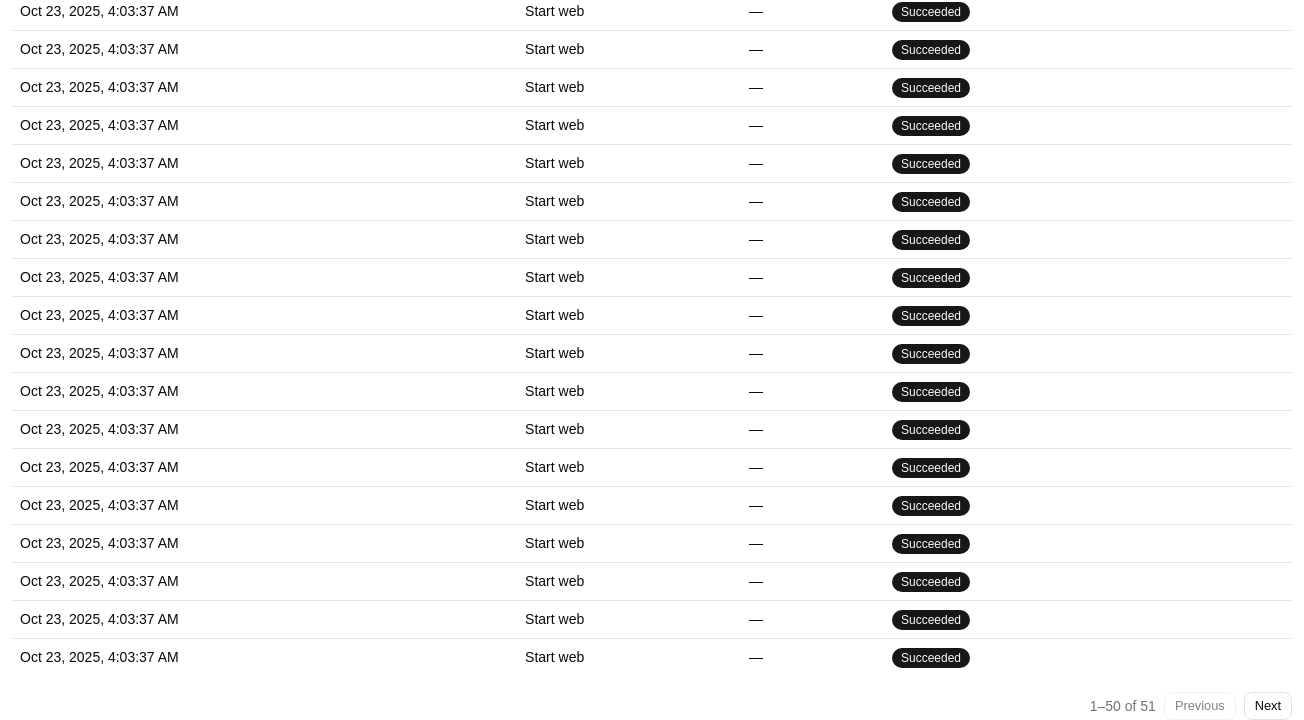
Test: shows tasks fifty at a time
(page scrolled)
Expected: the text "1–50 of 51" is shown, [1090,696,1156,716]
Click the button "Next" at [1268, 706], box [1244,692,1292,719]
(page scrolled)
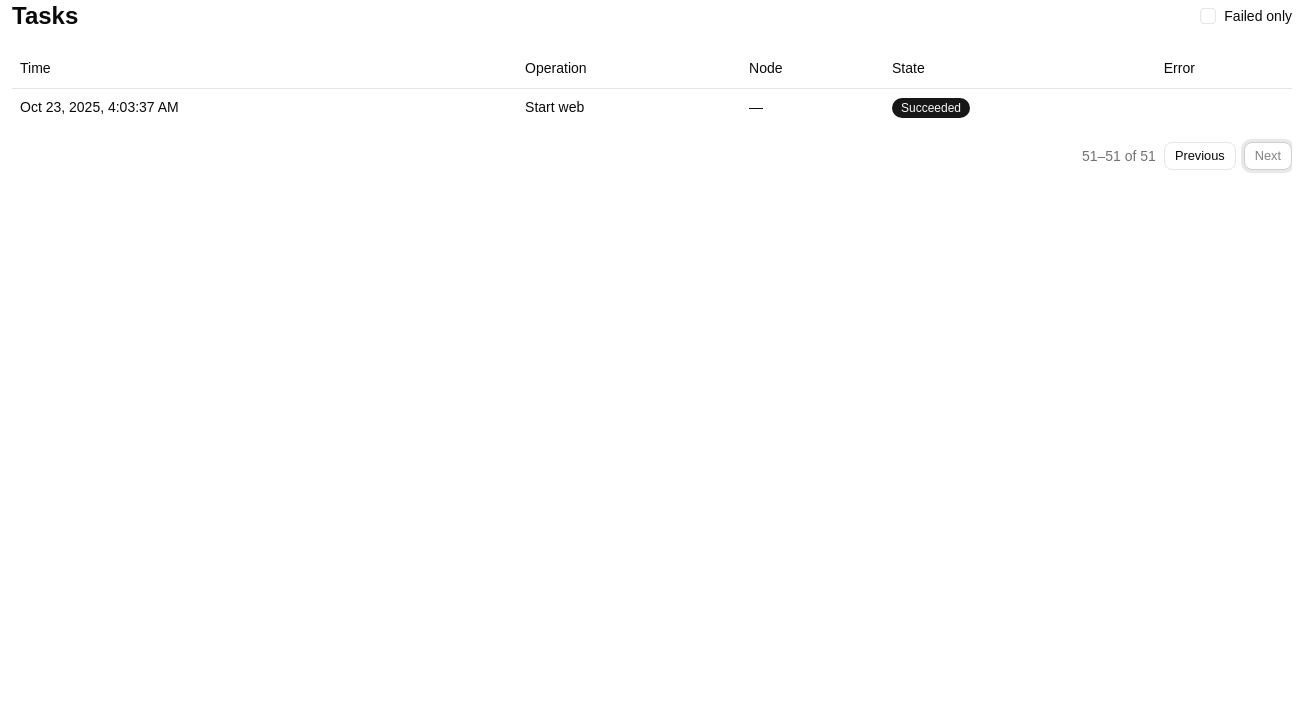
Result: the text "51–51 of 51" is shown at [1082,146,1156,166]
Result: the number of rows is 2 at [12,48,1292,88]; [12,88,1292,126]
